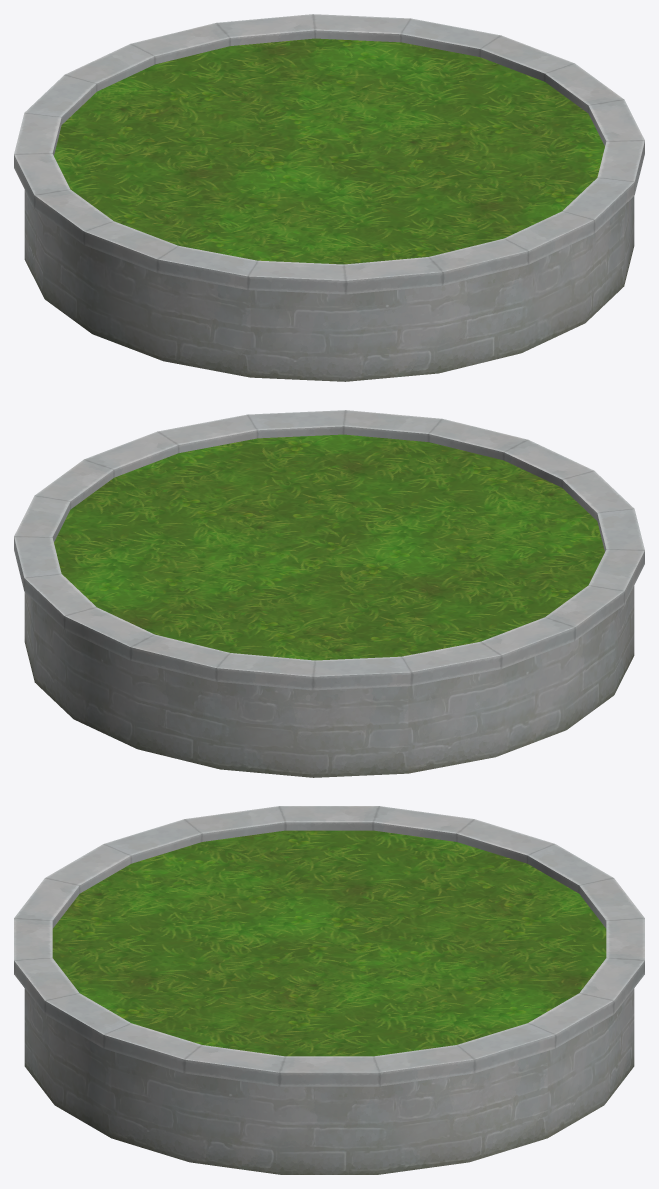
File: flowerBed_circular_01.fbx
3 views of the same model, one above another, from view 1: azimuth 30°, elevation 25°; view 2: azimuth 150°, elevation 25°; view 3: azimuth 270°, elevation 25° (orthographic).
Parts seen in each view (by area): view 1: flowerBed_circular_01; view 2: flowerBed_circular_01; view 3: flowerBed_circular_01.
Part boxes in pixels (bbox=[...]): flowerBed_circular_01: bbox=[14, 14, 644, 381]; flowerBed_circular_01: bbox=[14, 410, 644, 777]; flowerBed_circular_01: bbox=[14, 806, 644, 1174].
Bounding box in the file's own units: 306 × 57.19 × 306.
